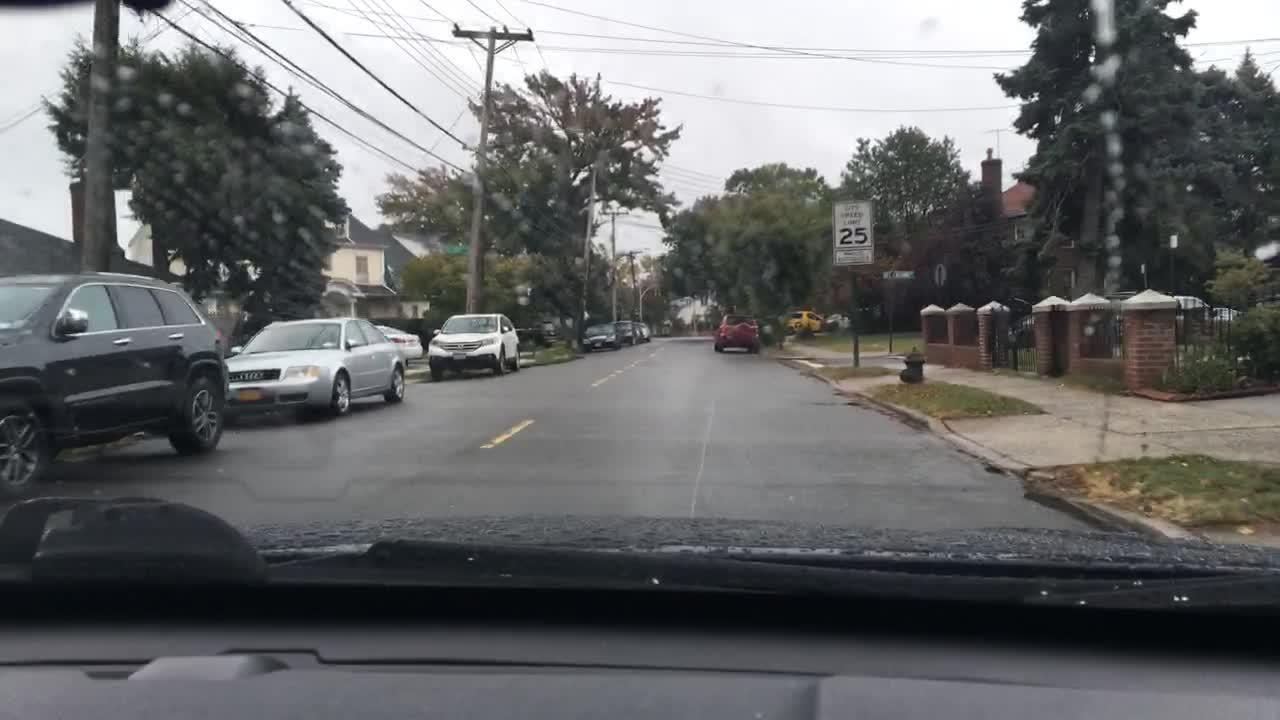Audi: (240, 371, 265, 381)
